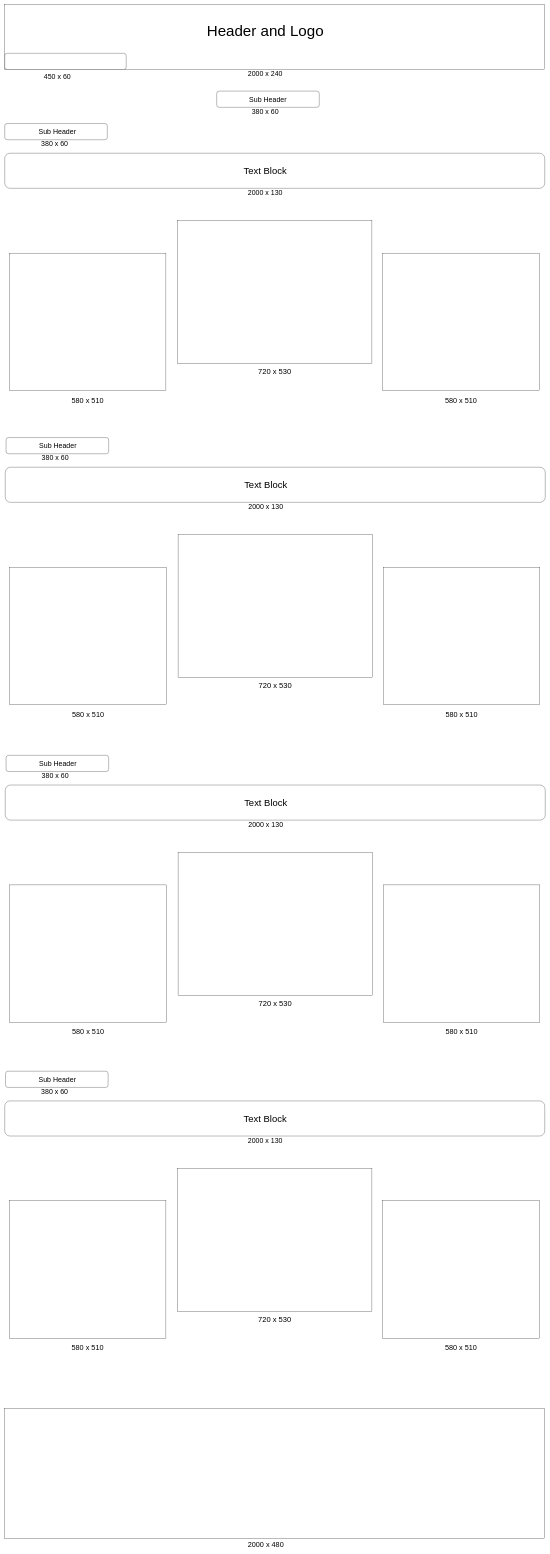
Image size: 550x1554. Some labels were removed from this diagram. The centre of each missing label's shape, as x and y in pixels:
"Footer" goes at (x=274, y=1473).
"Nav Bar" goes at (x=65, y=61).
